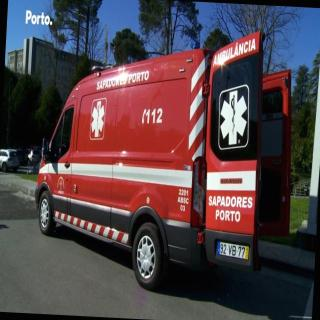Ambulance: (23, 22, 311, 295)
